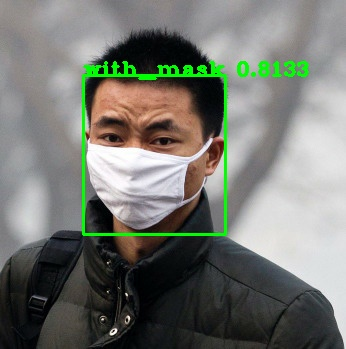with_mask: (82, 77, 225, 230)
